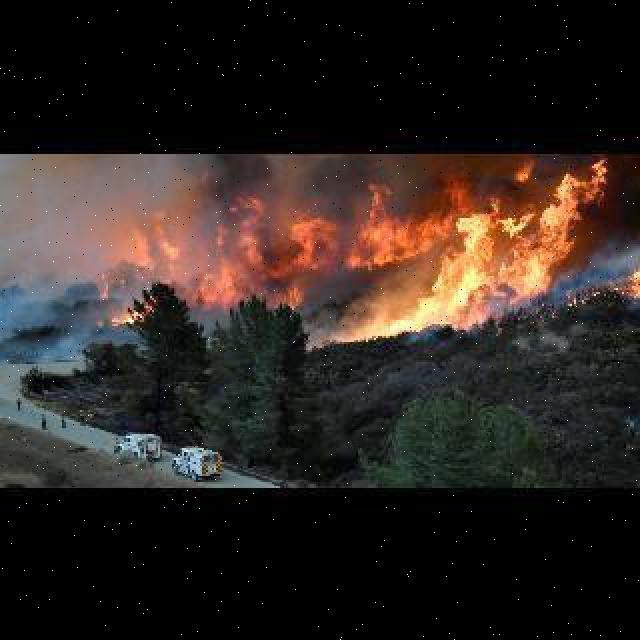fire: (193, 197, 435, 297), (436, 202, 589, 328)
smoke: (6, 149, 209, 309)
